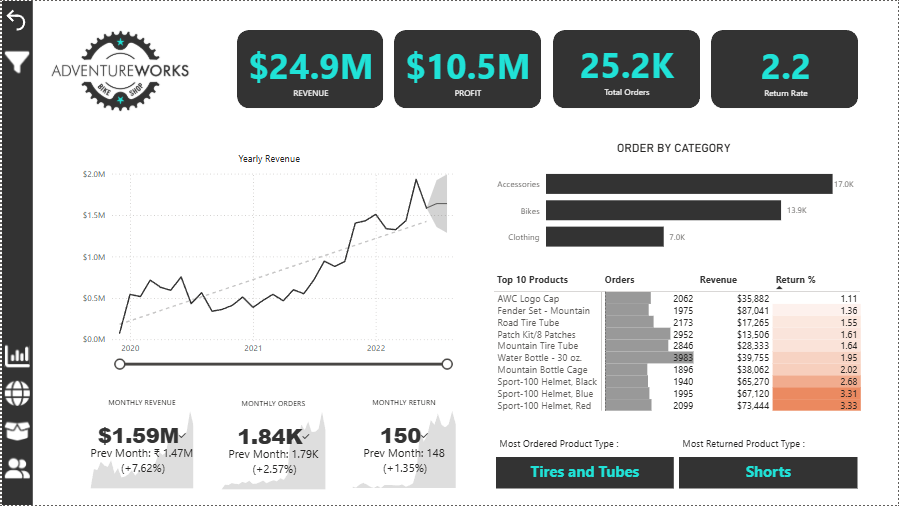

The dashboard page shown, as its layout file describes it:
{"tool":"powerbi","page":{"name":"Exec Dashboard","canvas":[1280,720],"ordinal":0},"visuals":[{"type":"image","title":"AW logo","box":[43.8,0,250,200],"z":0},{"type":"shape","box":[335.8,41,209,111.8],"z":0,"group":"g2"},{"type":"actionButton","box":[0,485,61.2,43.8],"z":0,"group":"g4"},{"type":"shape","title":"Left Nav Background","box":[0,0,44.3,720],"z":1000},{"type":"shape","box":[560.8,41,210.3,111.8],"z":1000,"group":"g2"},{"type":"actionButton","box":[0,538.3,61.2,43.8],"z":1000,"group":"g4"},{"type":"group","id":"g1","title":"KPI","box":[323.8,13.8,913.8,166.2],"z":2000},{"type":"group","id":"g2","title":"KPI Background ","box":[335.8,41,887.9,111.8],"z":2000,"group":"g1"},{"type":"shape","box":[787.1,41,210.3,111.8],"z":2000,"group":"g2"},{"type":"actionButton","box":[0,591.7,61.2,43.8],"z":2000,"group":"g4"},{"type":"card","fields":{"Values":["Measure Table.Total Revenue"]},"box":[323.8,15.4,234.3,164.5],"z":3000,"group":"g3"},{"type":"shape","box":[1013.4,41,210.3,111.8],"z":3000,"group":"g2"},{"type":"lineChart","title":"Yearly Revenue","fields":{"Y":["Measure Table.Total Revenue"],"Category":["Calendar Lookup.Start of Month.Variation.Date Hierarchy.Year","Calendar Lookup.Start of Month.Variation.Date Hierarchy.Quarter","Calendar Lookup.Start of Month.Variation.Date Hierarchy.Month","Calendar Lookup.Start of Month.Variation.Date Hierarchy.Day"]},"box":[110,215,543.8,313.8],"z":3000},{"type":"actionButton","box":[0,645,61.2,43.8],"z":3000,"group":"g4"},{"type":"card","fields":{"Values":["Measure Table.Total Profit"]},"box":[548.8,15.4,234.3,164.5],"z":4000,"group":"g3"},{"type":"kpi","title":"MONTHLY REVENUE","fields":{"Indicator":["Measure Table.Total Revenue"],"TrendLine":["Calendar Lookup.Date Hierarchy.Start of Month"],"Goal":["Measure Table.Pervious Month Revenue"]},"box":[121.4,565.7,157.1,135.7],"z":4000},{"type":"card","fields":{"Values":["Measure Table.Total Orders"]},"box":[775.1,13.8,234.3,164.5],"z":5000,"group":"g3"},{"type":"kpi","title":"MONTHLY ORDERS","fields":{"TrendLine":["Calendar Lookup.Date Hierarchy.Start of Month"],"Indicator":["Measure Table.Total Orders"],"Goal":["Measure Table.Previous Month Orders"]},"box":[308.1,567.1,158.6,135.7],"z":5000},{"type":"card","fields":{"Values":["Measure Table.Return Rate"]},"box":[1002.7,15.4,234.3,164.5],"z":6000,"group":"g3"},{"type":"kpi","title":"MONTHLY RETURN","fields":{"TrendLine":["Calendar Lookup.Date Hierarchy.Start of Month"],"Indicator":["Measure Table.Total Returns"],"Goal":["Measure Table.Previous Month Returns"]},"box":[496.2,566.2,157.5,135],"z":6000},{"type":"group","id":"g3","title":"KPI Values","box":[323.8,13.8,913.2,166.1],"z":6001,"group":"g1"},{"type":"barChart","title":"ORDER BY CATEGORY","fields":{"Category":["Product Categories Lookup.CategoryName"],"Y":["Measure Table.Total Orders"]},"box":[697.5,200,525,172.5],"z":7000},{"type":"pivotTable","fields":{"Rows":["Product Lookup.ProductName"],"Values":["Measure Table.Total Orders","Measure Table.Total Revenue","Measure Table.Return Rate"]},"box":[697.5,383.8,540,220],"z":8000},{"type":"card","fields":{"Values":["Min(Product Subcategories Lookup.SubcategoryName)"]},"box":[706.2,651.2,253.8,45],"z":9000},{"type":"textbox","box":[706.2,618.8,182.5,32.5],"z":10000},{"type":"card","fields":{"Values":["Min(Product Subcategories Lookup.SubcategoryName)"]},"box":[967.5,651.2,255,45],"z":11000},{"type":"textbox","box":[967.5,618.8,203.8,32.5],"z":12000},{"type":"actionButton","box":[0,7.1,44.3,40],"z":13000},{"type":"group","id":"g4","title":"Navigation Buttons","box":[0,485,61.2,203.8],"z":14000},{"type":"actionButton","box":[0,65.6,44.4,43.3],"z":15000}]}

Visuals, with their boxes on the page's 1280x720 design canvas (x1, y1, x2, y2). These are canvas units, not pixel positions in the 899x506 screenshot, which may show the page scaled, cropped or inside an application window:
"AW logo" image: BBox(44, 0, 294, 200)
shape: BBox(336, 41, 545, 153)
actionButton: BBox(0, 485, 61, 529)
"Left Nav Background" shape: BBox(0, 0, 44, 720)
shape: BBox(561, 41, 771, 153)
actionButton: BBox(0, 538, 61, 582)
"KPI" group: BBox(324, 14, 1238, 180)
"KPI Background " group: BBox(336, 41, 1224, 153)
shape: BBox(787, 41, 997, 153)
actionButton: BBox(0, 592, 61, 636)
card - Measure Table.Total Revenue: BBox(324, 15, 558, 180)
shape: BBox(1013, 41, 1224, 153)
"Yearly Revenue" lineChart: BBox(110, 215, 654, 529)
actionButton: BBox(0, 645, 61, 689)
card - Measure Table.Total Profit: BBox(549, 15, 783, 180)
"MONTHLY REVENUE" kpi: BBox(121, 566, 278, 701)
card - Measure Table.Total Orders: BBox(775, 14, 1009, 178)
"MONTHLY ORDERS" kpi: BBox(308, 567, 467, 703)
card - Measure Table.Return Rate: BBox(1003, 15, 1237, 180)
"MONTHLY RETURN" kpi: BBox(496, 566, 654, 701)
"KPI Values" group: BBox(324, 14, 1237, 180)
"ORDER BY CATEGORY" barChart: BBox(698, 200, 1222, 372)
pivotTable - Product Lookup.ProductName x Measure Table.Total Orders: BBox(698, 384, 1238, 604)
card - Min(Product Subcategories Lookup.SubcategoryName): BBox(706, 651, 960, 696)
textbox: BBox(706, 619, 889, 651)
card - Min(Product Subcategories Lookup.SubcategoryName): BBox(968, 651, 1222, 696)
textbox: BBox(968, 619, 1171, 651)
actionButton: BBox(0, 7, 44, 47)
"Navigation Buttons" group: BBox(0, 485, 61, 689)
actionButton: BBox(0, 66, 44, 109)
